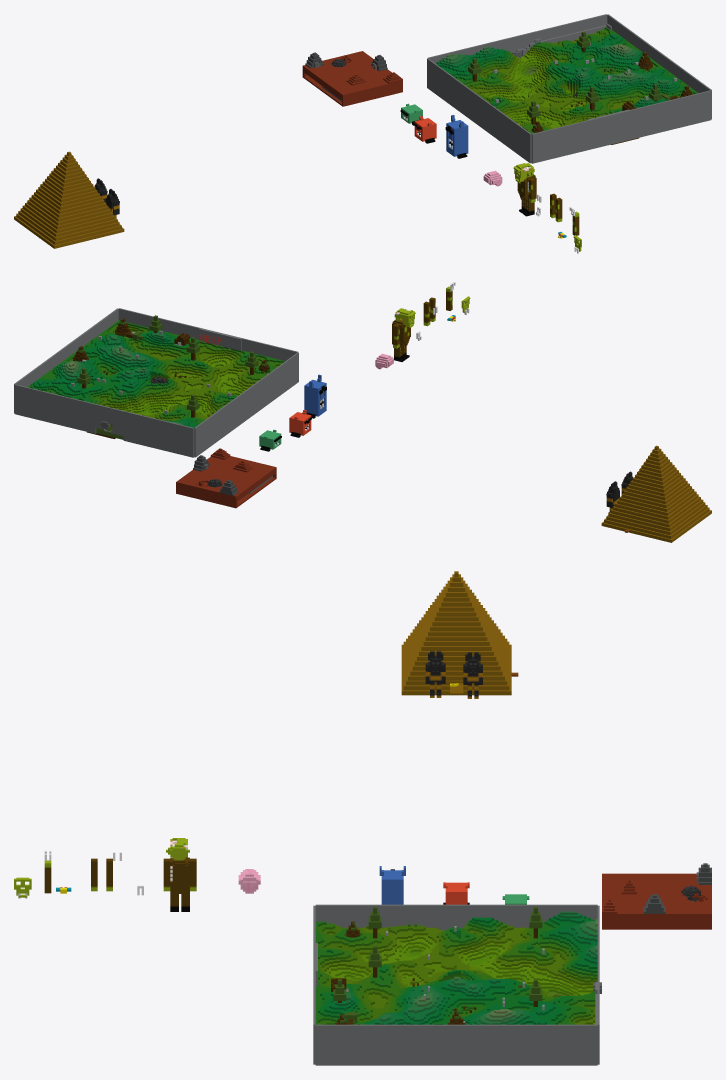
File: piramide.dae
The picture shows the model from 3 angles, top to bottom: view 1: azimuth 30°, elevation 25°; view 2: azimuth 150°, elevation 25°; view 3: azimuth 270°, elevation 25°; orthographic projection. The views are drawn at different scales.
Visible parts, largest first — view 1: Matrix_0, Pyramid_10, Cuboid_13, Cuboid_15, Cuboid_12, Cuboid_14, Cuboid_16, Cuboid_8, monstre_bleu, monstre_rouge; view 2: Matrix_0, Pyramid_10, Cuboid_14, Cuboid_15, Cuboid_12, Cuboid_13, Cuboid_16, Cuboid_8, monstre_bleu, Cuboid_30, monstre_rouge; view 3: Matrix_0, Cuboid_16, Pyramid_10, Cuboid_15, Cuboid_12, Cuboid_8, monstre_bleu, garde_1.
Part boxes in pixels (x1=…): Matrix_0: x1=436, y1=23, x2=698, y2=133; Pyramid_10: x1=14, y1=151, x2=124, y2=248; Cuboid_13: x1=531, y1=90, x2=711, y2=163; Cuboid_15: x1=427, y1=58, x2=531, y2=163; Cuboid_12: x1=302, y1=51, x2=402, y2=96; Cuboid_14: x1=428, y1=14, x2=607, y2=63; Cuboid_16: x1=607, y1=14, x2=711, y2=119; Cuboid_8: x1=302, y1=58, x2=402, y2=106; monstre_bleu: x1=445, y1=115, x2=468, y2=156; monstre_rouge: x1=414, y1=116, x2=436, y2=141; Matrix_0: x1=28, y1=320, x2=285, y2=439; Pyramid_10: x1=601, y1=445, x2=711, y2=542; Cuboid_14: x1=14, y1=384, x2=194, y2=457; Cuboid_15: x1=194, y1=352, x2=298, y2=457; Cuboid_12: x1=176, y1=456, x2=276, y2=497; Cuboid_13: x1=118, y1=308, x2=298, y2=360; Cuboid_16: x1=14, y1=308, x2=118, y2=413; Cuboid_8: x1=176, y1=469, x2=276, y2=508; monstre_bleu: x1=304, y1=374, x2=326, y2=416; Cuboid_30: x1=199, y1=328, x2=241, y2=350; monstre_rouge: x1=289, y1=410, x2=311, y2=435; Matrix_0: x1=315, y1=911, x2=597, y2=1024; Cuboid_16: x1=315, y1=1024, x2=597, y2=1065; Pyramid_10: x1=401, y1=571, x2=511, y2=695; Cuboid_15: x1=315, y1=904, x2=597, y2=930; Cuboid_12: x1=602, y1=873, x2=711, y2=915; Cuboid_8: x1=602, y1=893, x2=711, y2=929; monstre_bleu: x1=379, y1=866, x2=405, y2=904; garde_1: x1=425, y1=651, x2=445, y2=697.
Bounding box in the file's own units: 448 × 52 × 317.
Materials: 1 (1 with a texture image).
